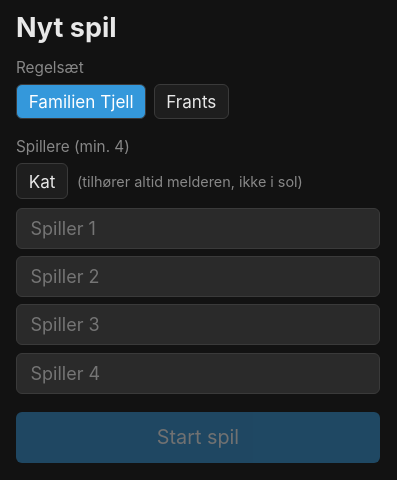
Test case: Setup screen › with Kat enabled, 3 players is enough to start (Tjell)
Click the button "Kat" at (42, 181), box [16,164,68,199]
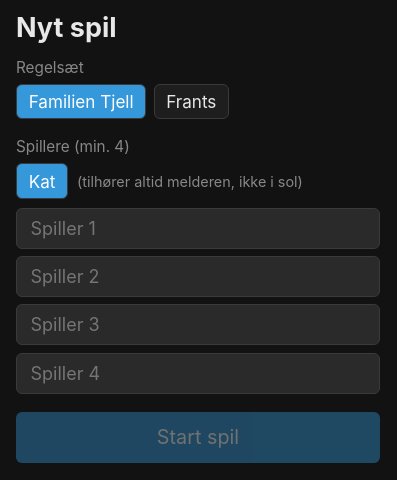
Type "Alice" into the field with placeholder "Spiller 1" at (198, 229), box [16,208,380,249]
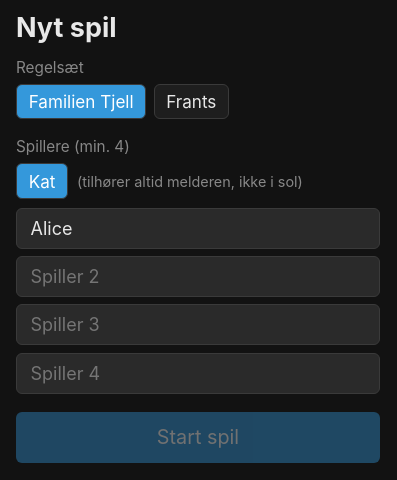
Type "Bob" into the field with placeholder "Spiller 2" at (198, 277), box [16,256,380,297]
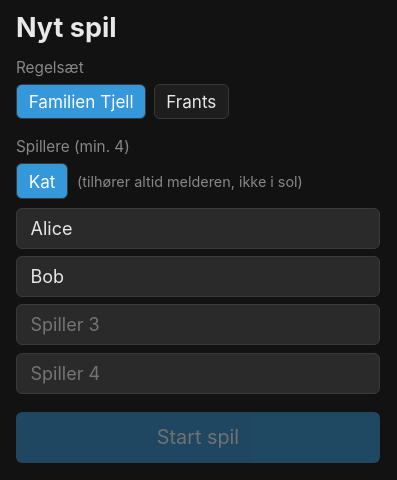
Type "Carol" into the field with placeholder "Spiller 3" at (198, 325), box [16,304,380,345]
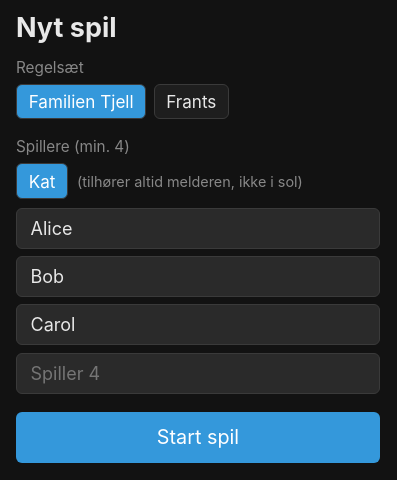
Expected: the button "Start spil" is enabled, [16,412,380,463]
